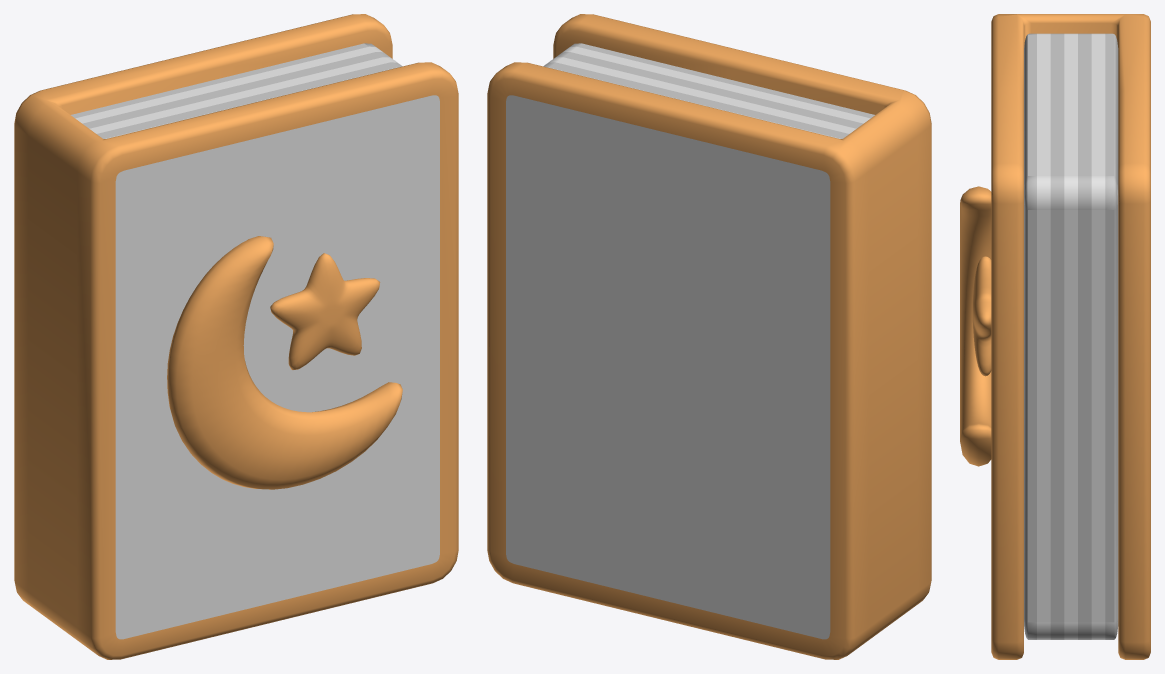
Rendered from sarva-book.glb.
3 renders of one model, left to right at view 1: azimuth 30°, elevation 25°; view 2: azimuth 150°, elevation 25°; view 3: azimuth 270°, elevation 25°, orthographic. The views are drawn at different scales.
Visible parts, largest first — view 1: Cube.012, Circle.010, Cube.013, Star.003; view 2: Cube.012, Cube.013; view 3: Cube.013, Cube.012, Circle.010, Star.003.
Boxes of the visible parts, left/top/right/bottom form: Cube.012: left=14, top=14, right=458, bottom=659; Circle.010: left=167, top=236, right=402, bottom=489; Cube.013: left=71, top=43, right=402, bottom=138; Star.003: left=270, top=253, right=380, bottom=369; Cube.012: left=487, top=14, right=931, bottom=659; Cube.013: left=543, top=43, right=874, bottom=138; Cube.013: left=1024, top=33, right=1118, bottom=639; Cube.012: left=991, top=14, right=1150, bottom=659; Circle.010: left=960, top=186, right=991, bottom=466; Star.003: left=972, top=256, right=991, bottom=376.
Bounding box in the file's own units: 2 × 2.67 × 0.9351.
